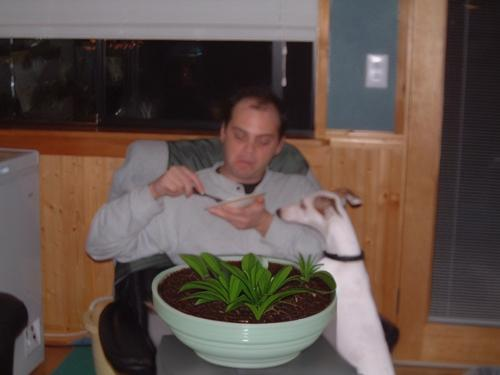chair: (99, 139, 401, 375)
dog: (278, 188, 395, 375)
person: (86, 91, 359, 375)
person/hand: (208, 195, 269, 231), (151, 166, 207, 199)
person/head: (220, 94, 287, 180)
pottedplant: (150, 253, 337, 369)
